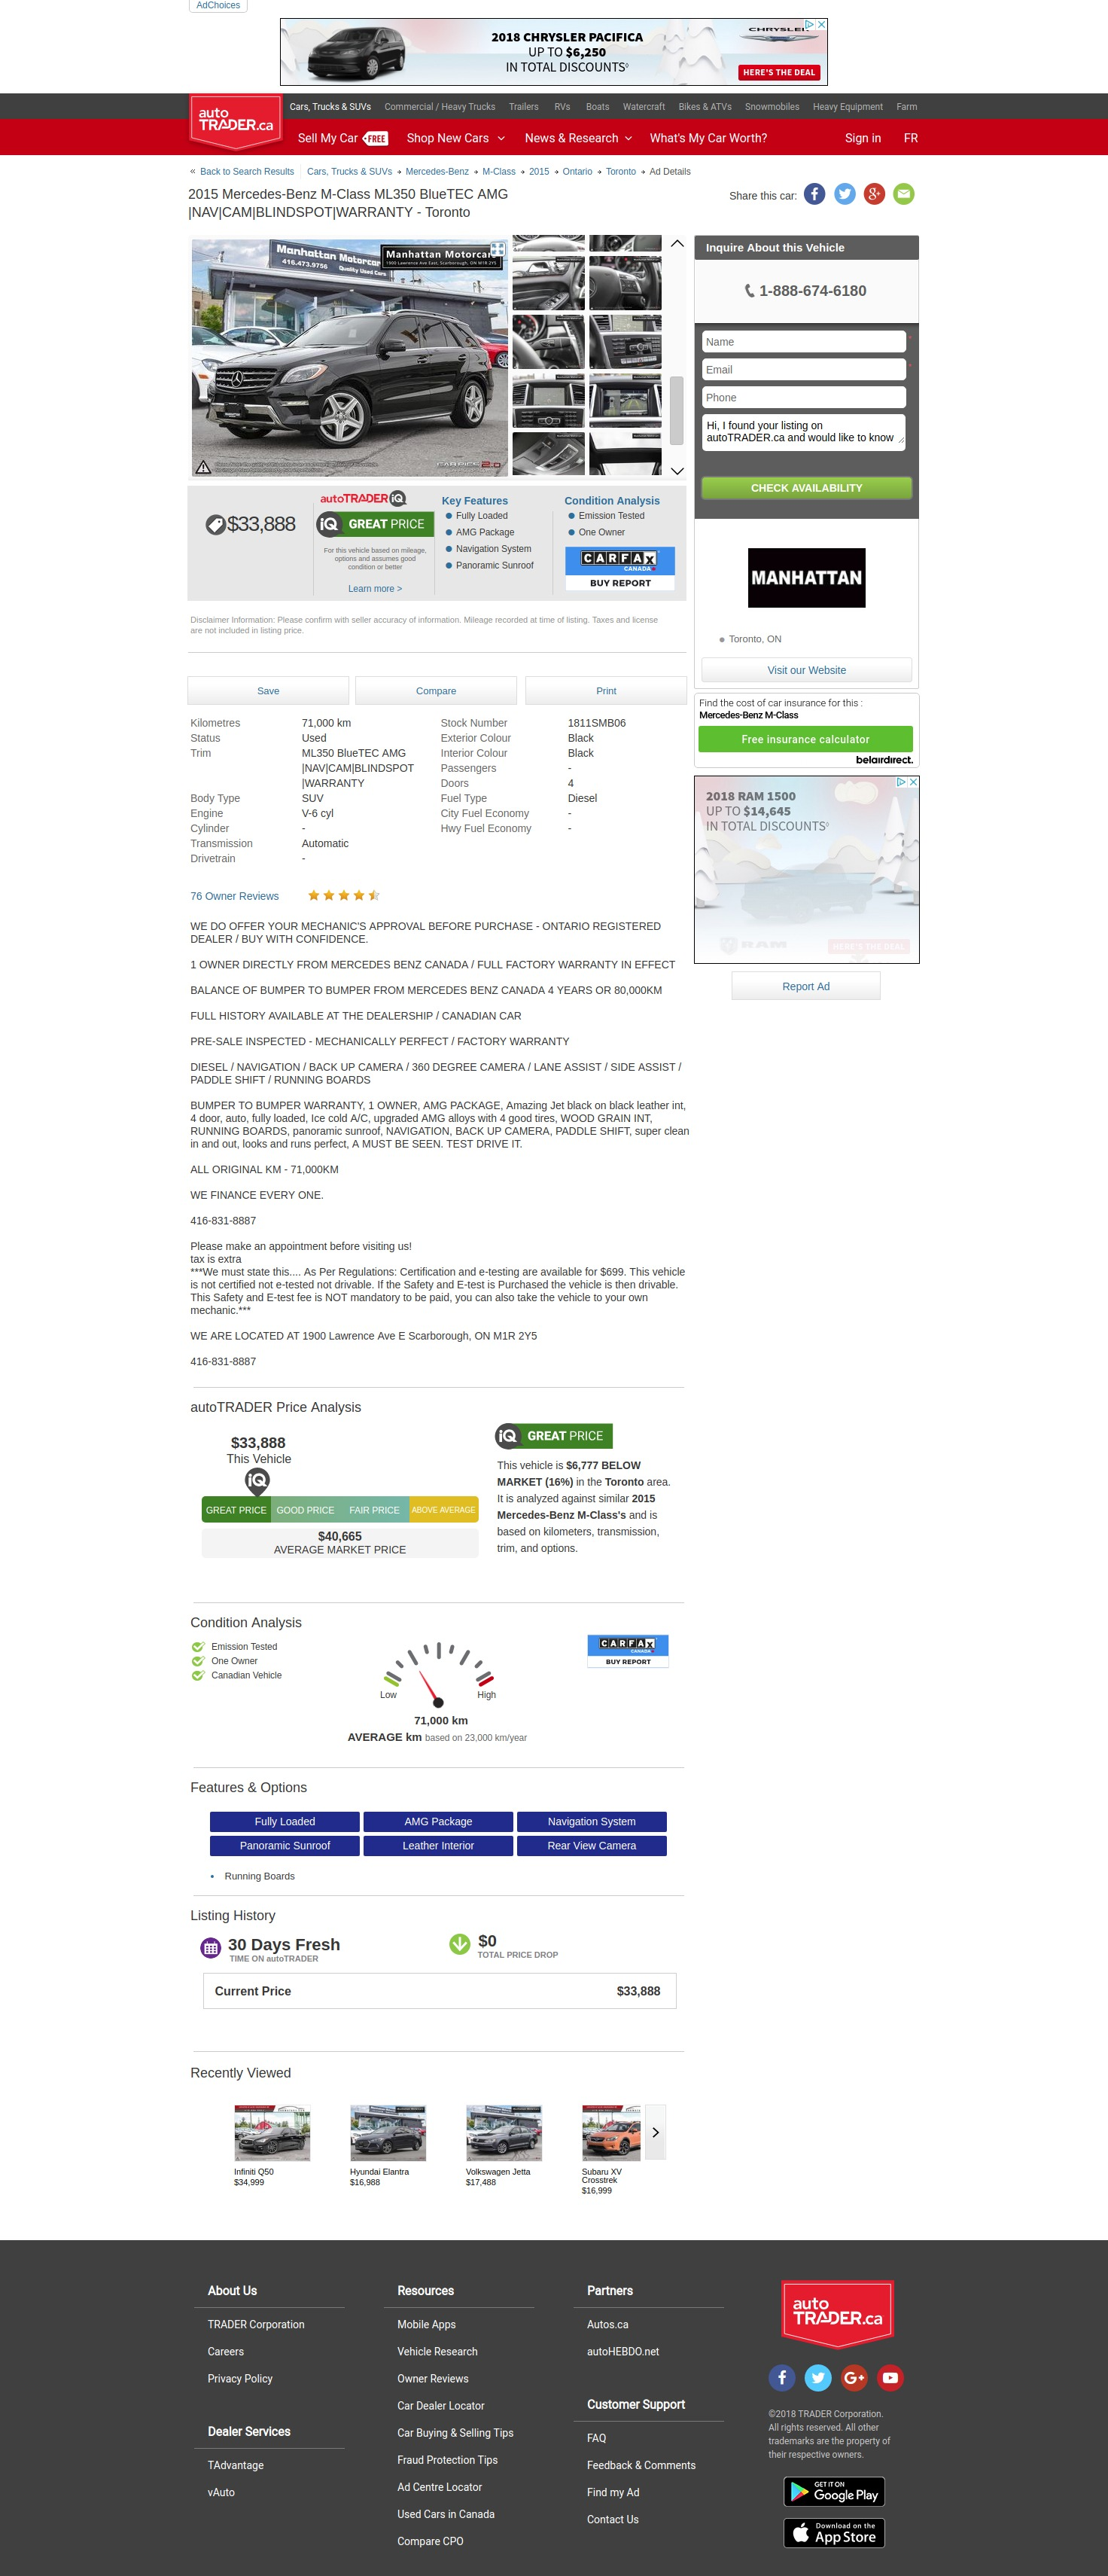car: (670, 467, 684, 476)
